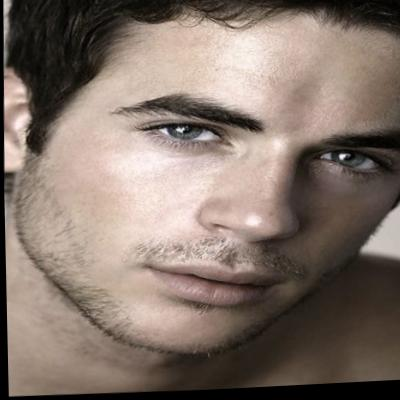netural: (28, 0, 400, 366)
